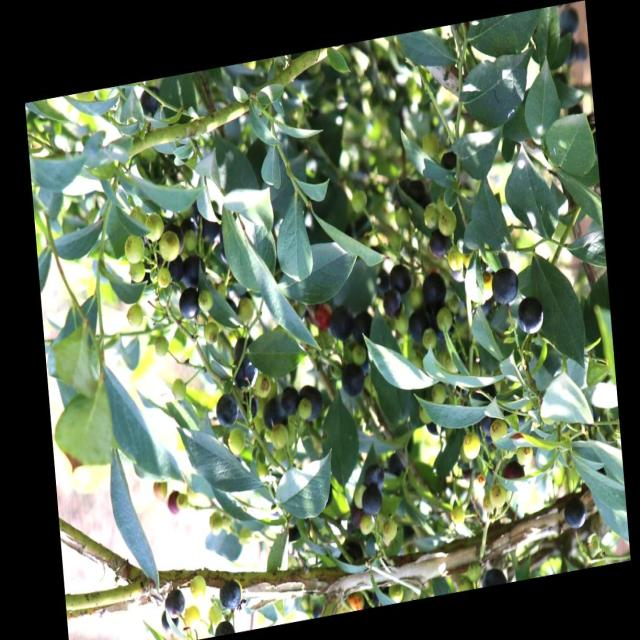blueberry: (487, 263, 522, 308), (174, 282, 204, 323), (135, 80, 167, 118), (516, 296, 544, 337), (358, 484, 390, 519), (348, 307, 375, 348), (216, 574, 246, 610), (562, 498, 592, 534), (424, 225, 452, 263), (337, 361, 366, 397), (230, 352, 257, 390), (296, 383, 324, 419), (327, 305, 352, 345), (180, 255, 208, 290), (430, 304, 457, 340), (161, 585, 188, 620), (262, 395, 287, 432), (214, 391, 240, 426), (421, 272, 446, 308), (198, 206, 224, 239), (162, 221, 186, 255), (362, 457, 389, 487), (408, 314, 432, 347), (158, 257, 184, 287), (388, 263, 412, 294), (378, 287, 403, 313), (278, 386, 298, 415), (374, 270, 388, 292)
blueberry-halfripe: (313, 302, 333, 332), (166, 489, 182, 515)
blueberry-unripe: (122, 232, 146, 264), (156, 230, 179, 263), (143, 210, 165, 243), (268, 422, 289, 452), (226, 427, 246, 457), (188, 572, 208, 602), (254, 370, 273, 400), (182, 603, 201, 630), (125, 302, 144, 328), (170, 376, 188, 402), (151, 477, 171, 500), (237, 296, 253, 324), (153, 334, 170, 358), (156, 266, 172, 291), (202, 320, 218, 345), (198, 288, 213, 313), (184, 482, 199, 505), (207, 602, 222, 624), (208, 512, 222, 535), (128, 262, 144, 282), (297, 398, 313, 418)
